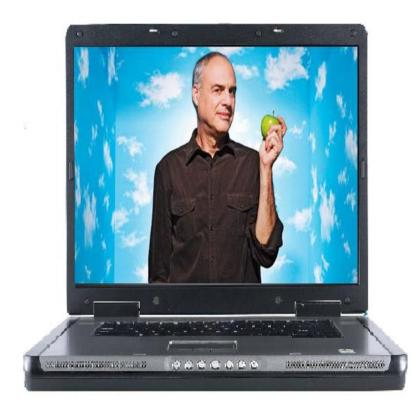board: (23, 24, 408, 393)
